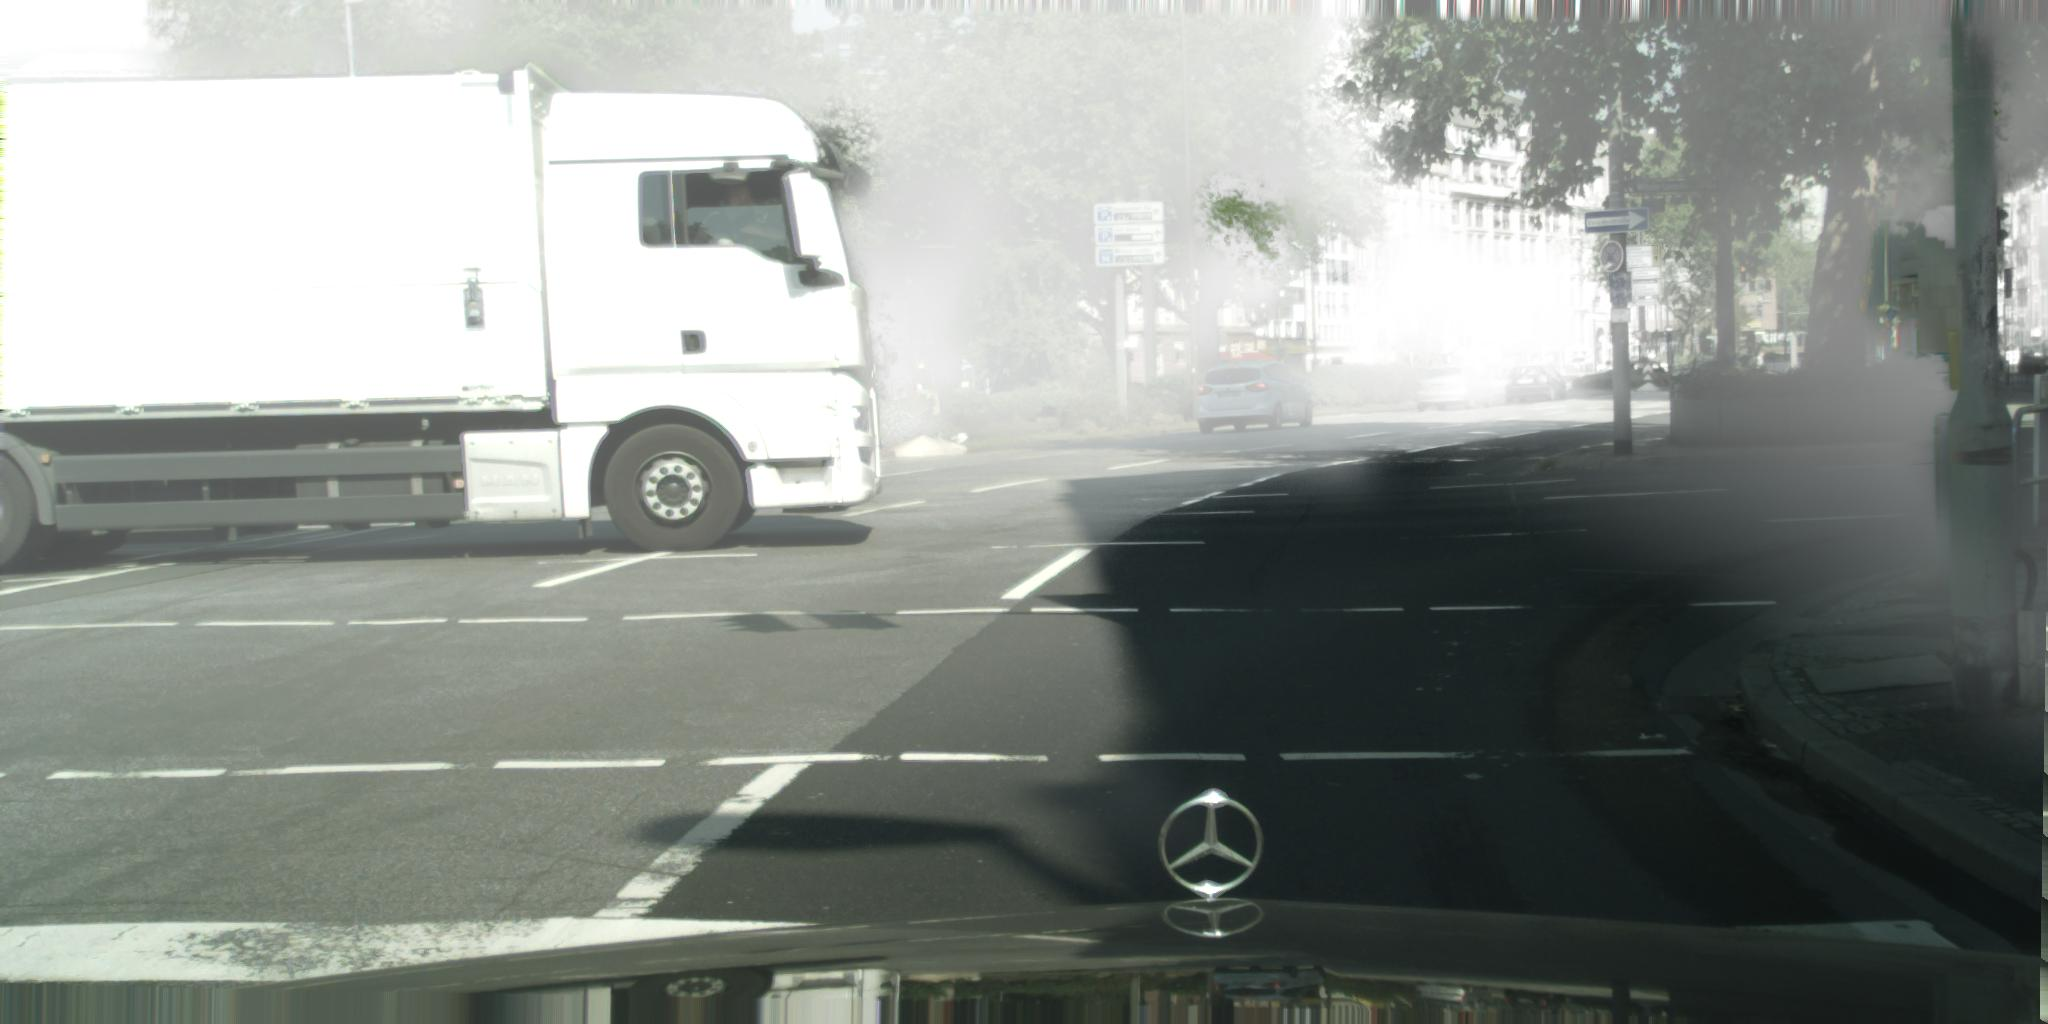car: (1198, 359, 1317, 438), (1415, 364, 1496, 414), (1505, 364, 1570, 408)
truck: (1, 61, 883, 573)
